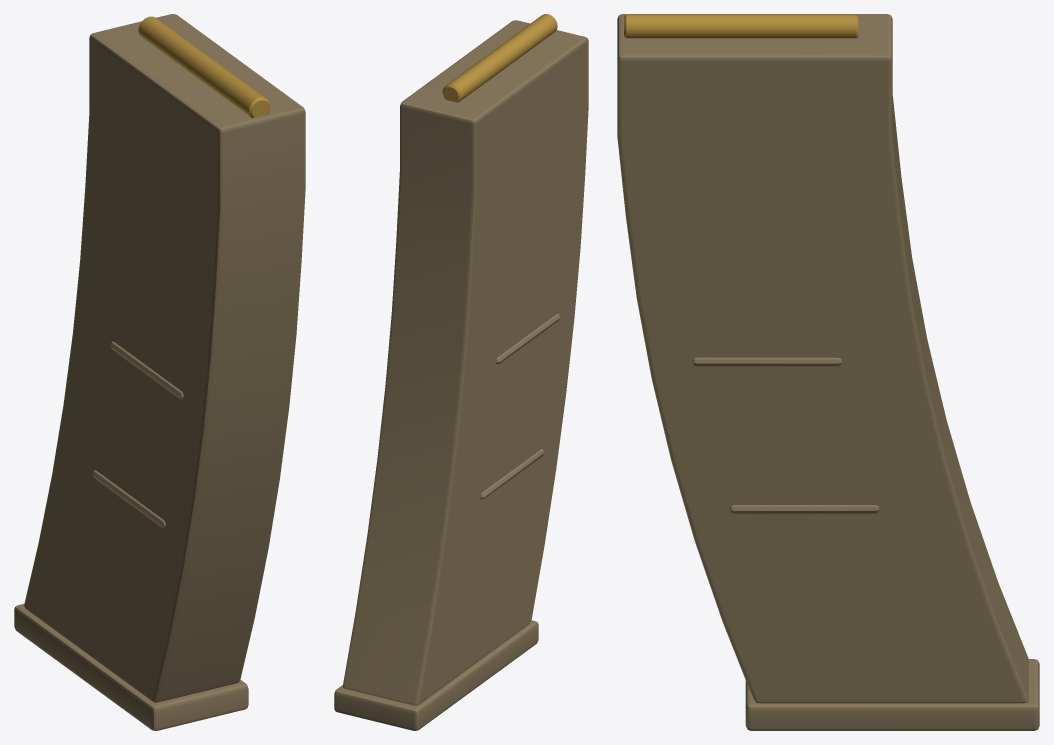
File: mod_corsair_standard_mag.glb
3 views of the same model, side by side, from view 1: azimuth 30°, elevation 25°; view 2: azimuth 150°, elevation 25°; view 3: azimuth 270°, elevation 25° (orthographic). The views are drawn at different scales.
Parts seen in each view (by area): view 1: Magazine, MagazineRound; view 2: Magazine, MagazineRound; view 3: Magazine, MagazineRound.
Part boxes in pixels (bbox=[...]): Magazine: bbox=[14, 14, 305, 730]; MagazineRound: bbox=[138, 16, 269, 117]; Magazine: bbox=[334, 20, 588, 730]; MagazineRound: bbox=[442, 14, 557, 102]; Magazine: bbox=[617, 14, 1039, 730]; MagazineRound: bbox=[624, 14, 858, 38].
Bounding box in the file's own units: 0.0254 × 0.1665 × 0.092.
